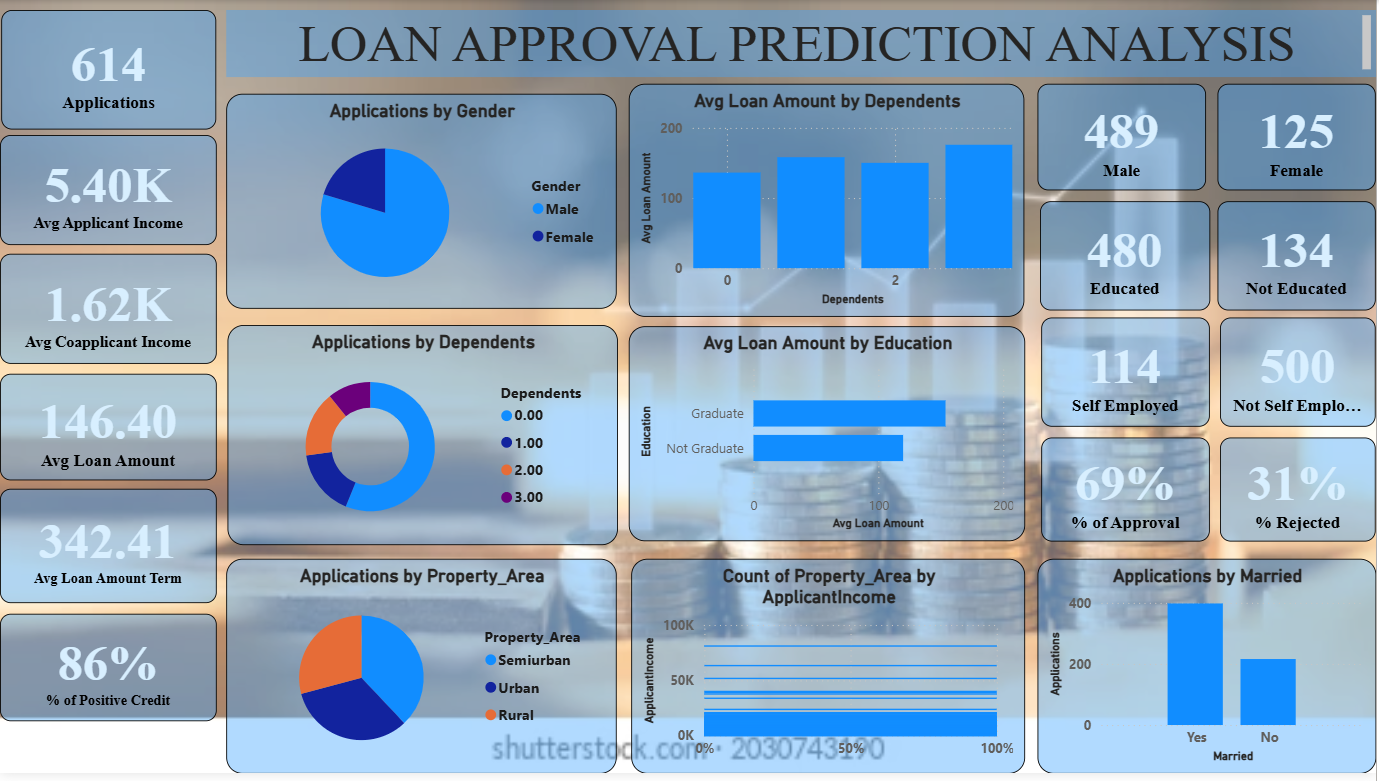

Layout of this report page (visuals, bound fields, positions):
{"tool":"powerbi","page":{"name":"Page 1","canvas":[1280,720],"ordinal":0},"visuals":[{"type":"card","fields":{"Values":["All Measures.Applications"]},"box":[1.2,9.7,200.3,111],"z":0},{"type":"card","fields":{"Values":["All Measures.Avg Coapplicant Income"]},"box":[0,236.5,201.5,102.5],"z":1000},{"type":"card","fields":{"Values":["All Measures.Avg Loan Amount"]},"box":[0,347.5,201.5,98.9],"z":2000},{"type":"card","fields":{"Values":["All Measures.Avg Loan Amount Term"]},"box":[0,454.8,201.5,106.2],"z":3000},{"type":"card","fields":{"Values":["All Measures.% of Approval"]},"box":[968.8,406.6,156.8,96.5],"z":4000},{"type":"card","fields":{"Values":["All Measures.% of Positive Credit"]},"box":[0,570.6,201.5,100.1],"z":5000},{"type":"textbox","box":[209.9,9.7,1070.1,62.7],"z":6000},{"type":"barChart","fields":{"Y":["All Measures.Avg Loan Amount"],"Category":["Loan Prediction Dataset.Education"]},"box":[584.6,303.3,369.1,200.3],"z":7000},{"type":"lineStackedColumnComboChart","fields":{"Category":["Loan Prediction Dataset.Dependents"],"Y":["All Measures.Avg Loan Amount"]},"box":[585.1,78.4,368,217.2],"z":8000},{"type":"hundredPercentStackedBarChart","fields":{"Category":["Loan Prediction Dataset.ApplicantIncome"],"Y":["CountNonNull(Loan Prediction Dataset.Property_Area)"]},"box":[587.5,520,366.8,200.3],"z":9000},{"type":"card","fields":{"Values":["All Measures.Male"]},"box":[965.2,78.4,156.8,98.9],"z":10000},{"type":"card","fields":{"Values":["All Measures.Female"]},"box":[1132.8,78.4,147.2,98.9],"z":11000},{"type":"card","fields":{"Values":["All Measures.Education"]},"box":[967.6,187,158,101.3],"z":12000},{"type":"card","fields":{"Values":["All Measures.Not Educated"]},"box":[1132.8,187,147.2,101.3],"z":13000},{"type":"card","fields":{"Values":["All Measures.Self Employed"]},"box":[968.8,295.6,156.8,101.3],"z":14000},{"type":"card","fields":{"Values":["All Measures.Not Self Employed"]},"box":[1135.3,295.6,144.8,101.3],"z":15000},{"type":"card","fields":{"Values":["All Measures.% Rejected"]},"box":[1135.3,406.6,144.8,96.5],"z":16000},{"type":"card","fields":{"Values":["All Measures.Avg Applicant Income"]},"box":[0,125.5,201.5,102.5],"z":17000},{"type":"pieChart","fields":{"Category":["Loan Prediction Dataset.Gender"],"Y":["All Measures.Applications"]},"box":[209.9,86.9,363.1,200.3],"z":18000},{"type":"pieChart","fields":{"Y":["All Measures.Applications"],"Category":["Loan Prediction Dataset.Property_Area"]},"box":[209.9,520,363.1,200.3],"z":19000},{"type":"donutChart","fields":{"Category":["Loan Prediction Dataset.Dependents"],"Y":["All Measures.Applications"]},"box":[211.1,302.8,363.1,205.1],"z":20000},{"type":"clusteredColumnChart","fields":{"Category":["Loan Prediction Dataset.Married"],"Y":["All Measures.Applications"]},"box":[965.2,520,314.9,200.3],"z":21000}]}

Visuals, with their boxes in screenshot pixels (x1, y1, x2, y2), scaled from the page's 1280x720 canvas onto the 1379x781 screenshot:
card - All Measures.Applications: [1, 11, 217, 131]
card - All Measures.Avg Coapplicant Income: [0, 257, 217, 368]
card - All Measures.Avg Loan Amount: [0, 377, 217, 484]
card - All Measures.Avg Loan Amount Term: [0, 493, 217, 609]
card - All Measures.% of Approval: [1044, 441, 1213, 546]
card - All Measures.% of Positive Credit: [0, 619, 217, 728]
textbox: [226, 11, 1378, 79]
barChart - All Measures.Avg Loan Amount x Loan Prediction Dataset.Education: [630, 329, 1027, 546]
lineStackedColumnComboChart - Loan Prediction Dataset.Dependents x All Measures.Avg Loan Amount: [630, 85, 1027, 321]
hundredPercentStackedBarChart - Loan Prediction Dataset.ApplicantIncome x CountNonNull(Loan Prediction Dataset.Property_Area): [633, 564, 1028, 780]
card - All Measures.Male: [1040, 85, 1209, 192]
card - All Measures.Female: [1220, 85, 1378, 192]
card - All Measures.Education: [1042, 203, 1213, 313]
card - All Measures.Not Educated: [1220, 203, 1378, 313]
card - All Measures.Self Employed: [1044, 321, 1213, 431]
card - All Measures.Not Self Employed: [1223, 321, 1378, 431]
card - All Measures.% Rejected: [1223, 441, 1378, 546]
card - All Measures.Avg Applicant Income: [0, 136, 217, 247]
pieChart - Loan Prediction Dataset.Gender x All Measures.Applications: [226, 94, 617, 312]
pieChart - All Measures.Applications x Loan Prediction Dataset.Property_Area: [226, 564, 617, 780]
donutChart - Loan Prediction Dataset.Dependents x All Measures.Applications: [227, 328, 619, 551]
clusteredColumnChart - Loan Prediction Dataset.Married x All Measures.Applications: [1040, 564, 1378, 780]
